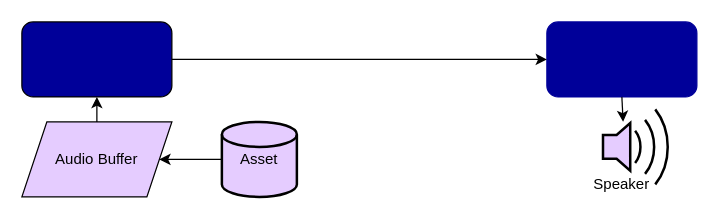
Image size: 719x220. Some labels were removed from this diagram. Here are the shapes that lost their labels. From the top down, the box of each, then its label:
(21, 21, 172, 97): Audio Buffer Input node
(546, 21, 697, 97): Context Destination
